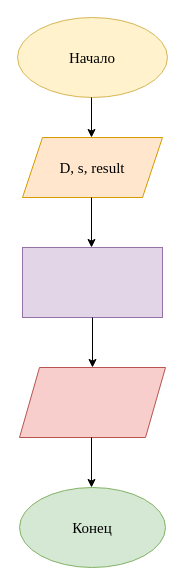
Image size: 185x585. Some labels were removed from this diagram. Here are the shapes that lost their labels. From the top down, the centre of each, then its label:
At (92,282): "result = D * s".
At (92,402): "Вывод результата".
